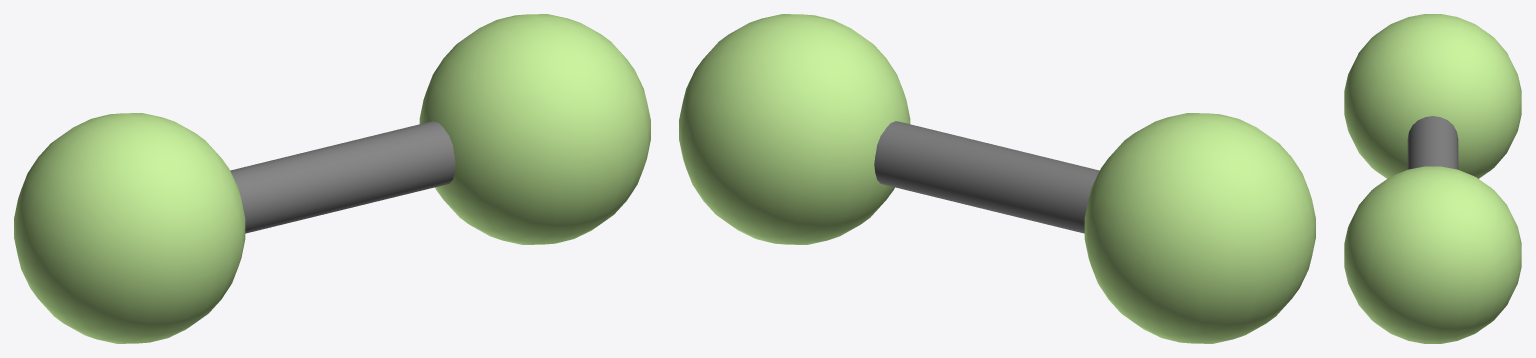
File: 09_F2_BaS.fbx
The picture shows the model from 3 angles, left to right: view 1: azimuth 30°, elevation 25°; view 2: azimuth 150°, elevation 25°; view 3: azimuth 270°, elevation 25°; orthographic projection. The views are drawn at different scales.
Visible parts, largest first — view 1: F.005, F.006, Bond.001.006; view 2: F.005, F.006, Bond.001.006; view 3: F.006, F.005, Bond.001.006.
Part boxes in pixels (x1=…): F.005: x1=14, y1=113, x2=245, y2=343; F.006: x1=419, y1=14, x2=650, y2=244; Bond.001.006: x1=230, y1=121, x2=455, y2=233; F.005: x1=1084, y1=113, x2=1315, y2=343; F.006: x1=679, y1=14, x2=910, y2=244; Bond.001.006: x1=874, y1=121, x2=1099, y2=233; F.006: x1=1344, y1=166, x2=1521, y2=343; F.005: x1=1344, y1=14, x2=1521, y2=178; Bond.001.006: x1=1407, y1=116, x2=1458, y2=169.
Bounding box in the file's own units: 213 × 70.28 × 70.28.
